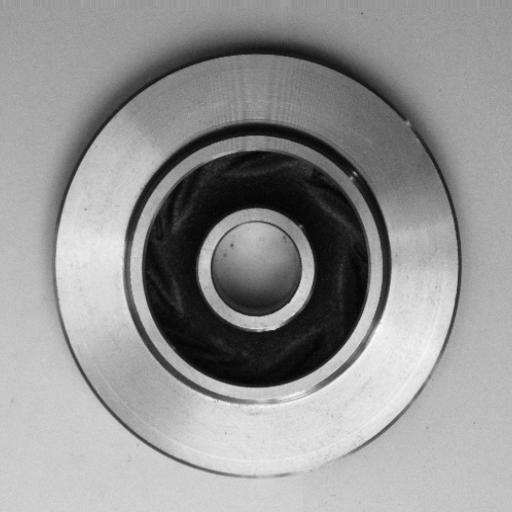scratch: (242, 445, 346, 496), (228, 371, 336, 419)
unpolished_casting: (53, 50, 462, 481)
